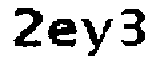2: (11, 5, 45, 49)
3: (120, 6, 150, 47)
e: (45, 16, 80, 48)
y: (79, 11, 114, 60)
